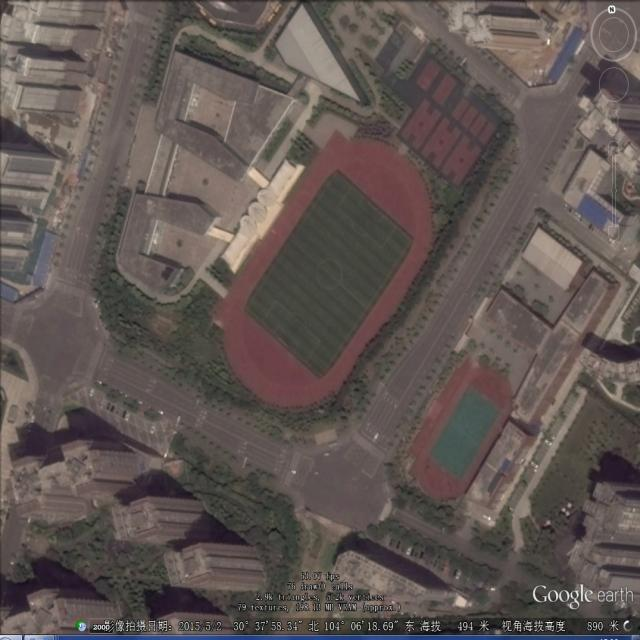playground: (208, 130, 439, 413)
